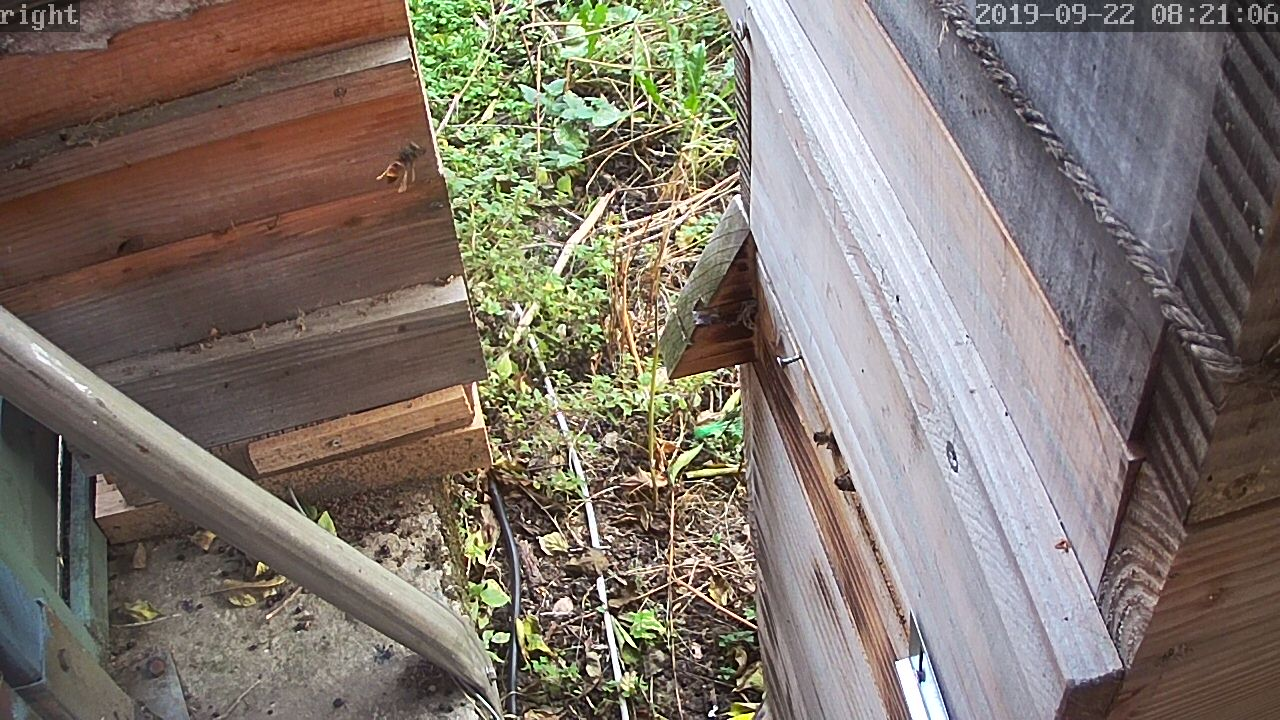bee: (808, 424, 840, 455), (830, 467, 854, 493)
hornet: (382, 138, 426, 188)
